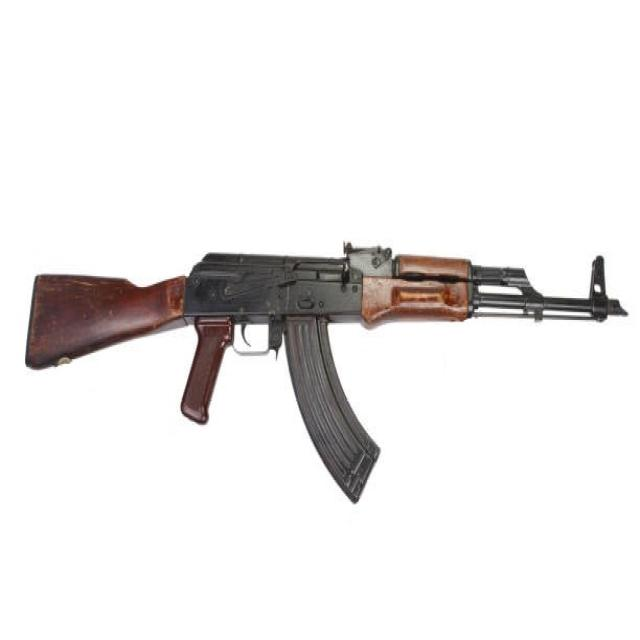rifle: (25, 231, 633, 519)
